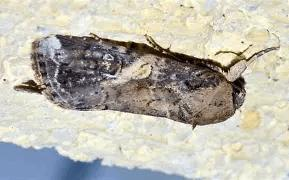army worm adult: (12, 17, 283, 137)
